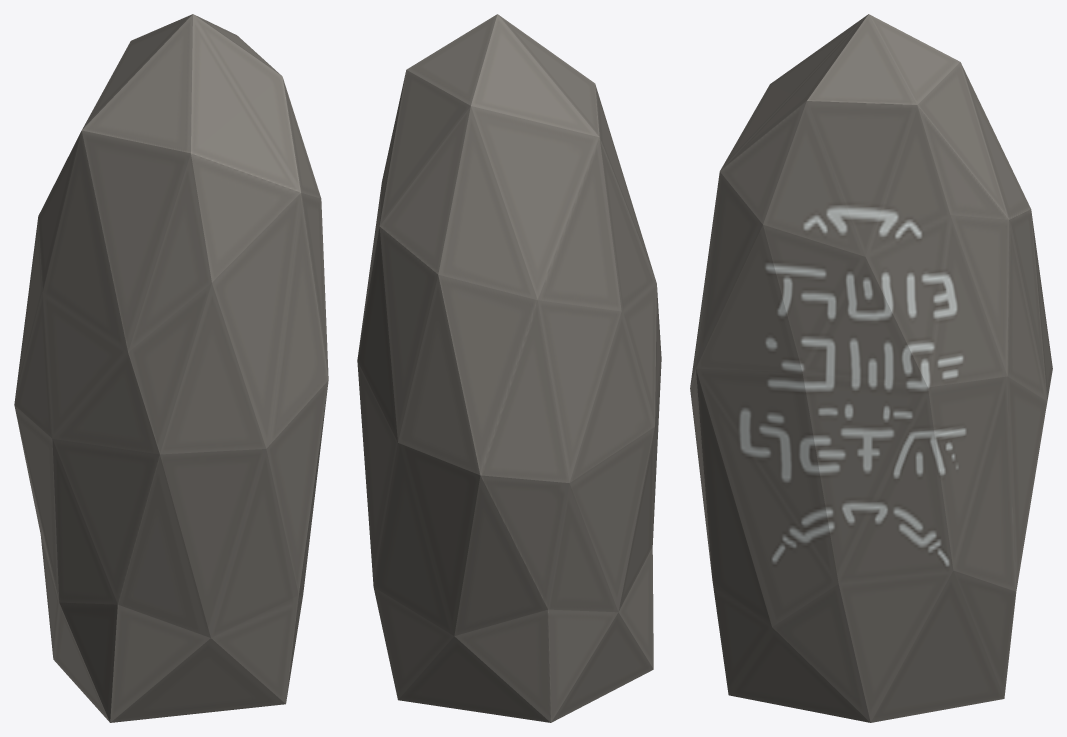
Rendered from SaveStationBase.fbx.
The picture shows the model from 3 angles, left to right: view 1: azimuth 30°, elevation 25°; view 2: azimuth 150°, elevation 25°; view 3: azimuth 270°, elevation 25°; orthographic projection. The views are drawn at different scales.
Visible parts, largest first — view 1: SaveStationBase; view 2: SaveStationBase; view 3: SaveStationBase.
Boxes of the visible parts, bbox=[...] form: SaveStationBase: bbox=[14, 14, 328, 722]; SaveStationBase: bbox=[357, 14, 661, 722]; SaveStationBase: bbox=[690, 14, 1052, 722].
Bounding box in the file's own units: 3.44 × 8.73 × 4.23.
1 material, 1 textured.
